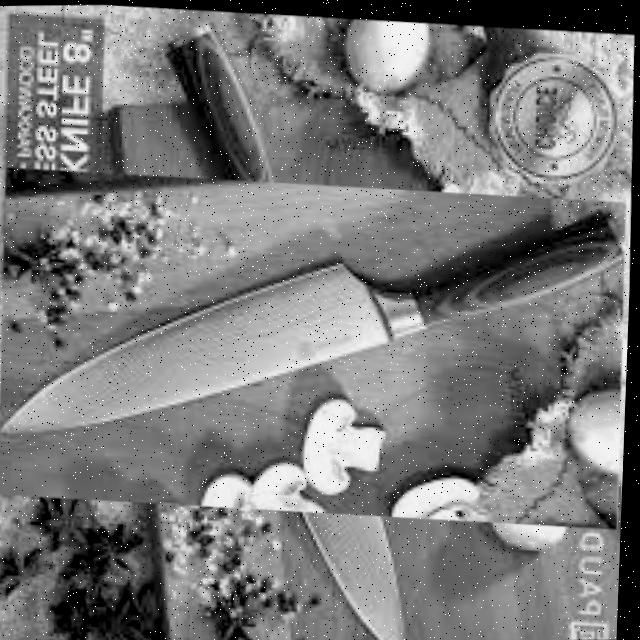knife: (142, 15, 430, 640), (0, 201, 630, 438)
